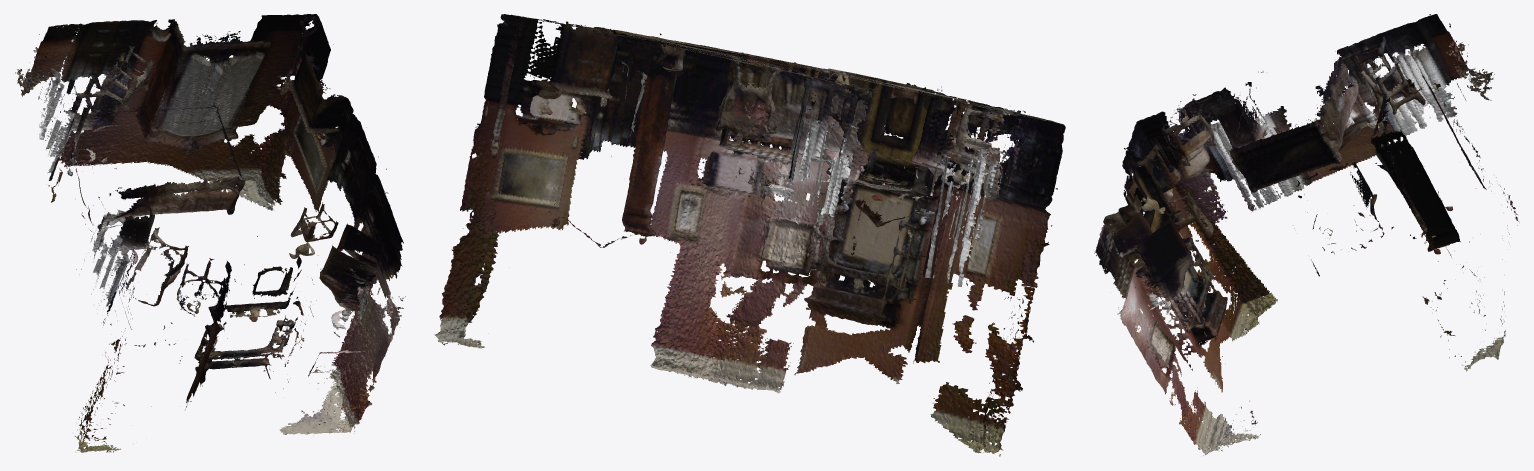
The model's file is observed-full-600frames.glb.
3 renders of one model, left to right at view 1: azimuth 30°, elevation 25°; view 2: azimuth 150°, elevation 25°; view 3: azimuth 270°, elevation 25°, orthographic. The views are drawn at different scales.
Parts seen in each view (by area): view 1: world; view 2: world; view 3: world.
Boxes of the visible parts, <box> form: world: <box>15,14,405,452</box>; world: <box>434,14,1065,456</box>; world: <box>1094,14,1518,455</box>.
Size of the model in its own units: 6.01 by 6.45 by 7.
